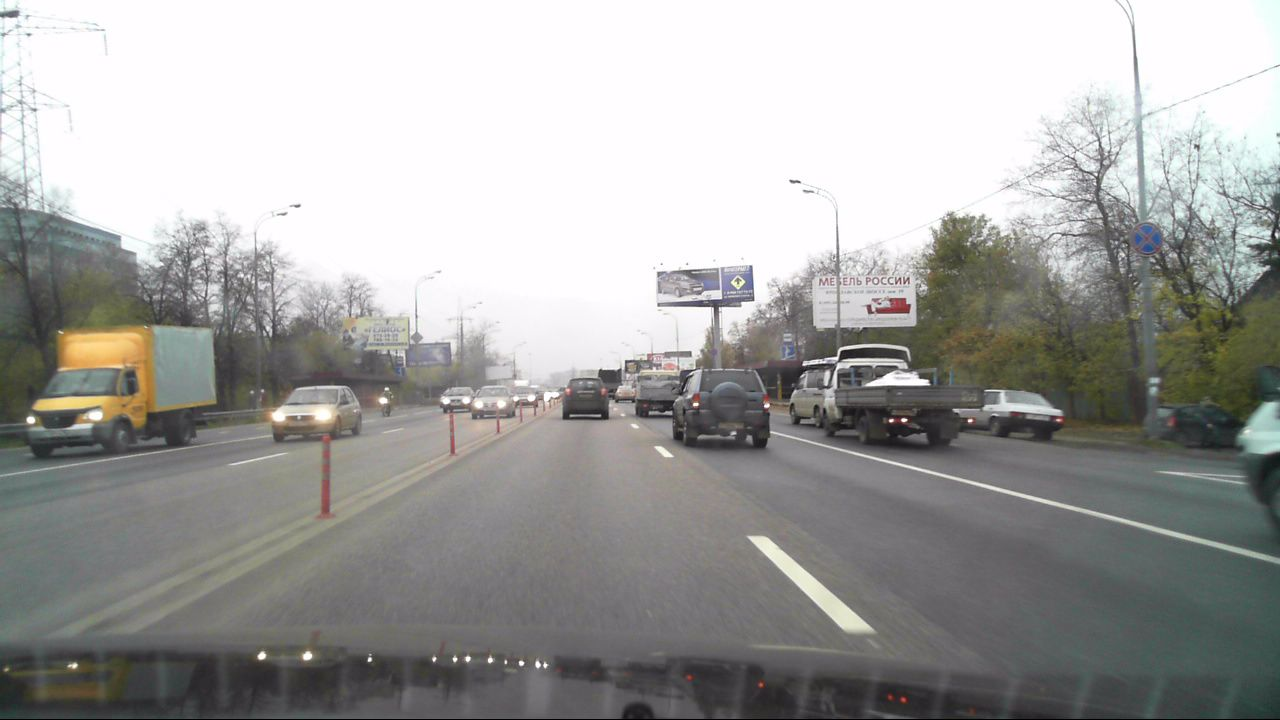No Parking: (1131, 221, 1162, 256)
